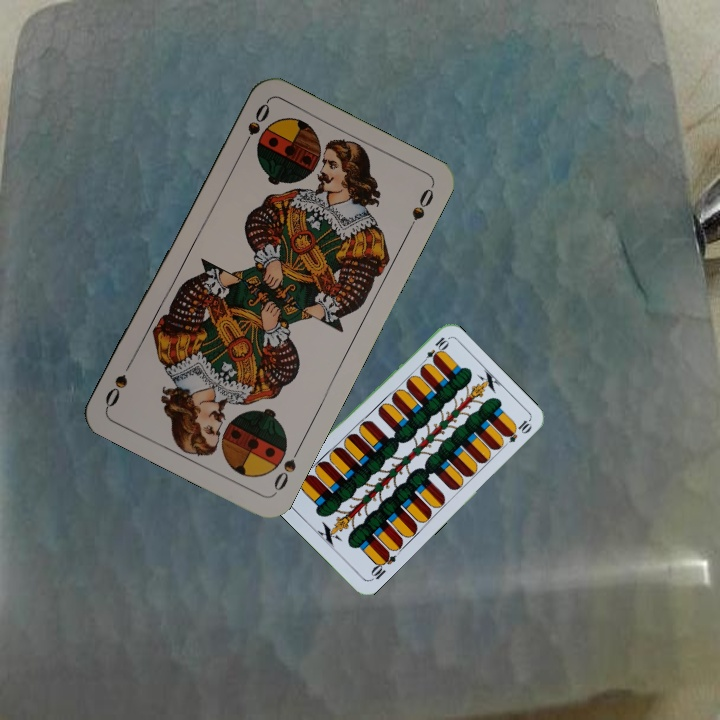E10: (417, 333, 451, 368), (366, 547, 399, 583)
SO: (237, 99, 272, 154), (269, 442, 304, 497)
